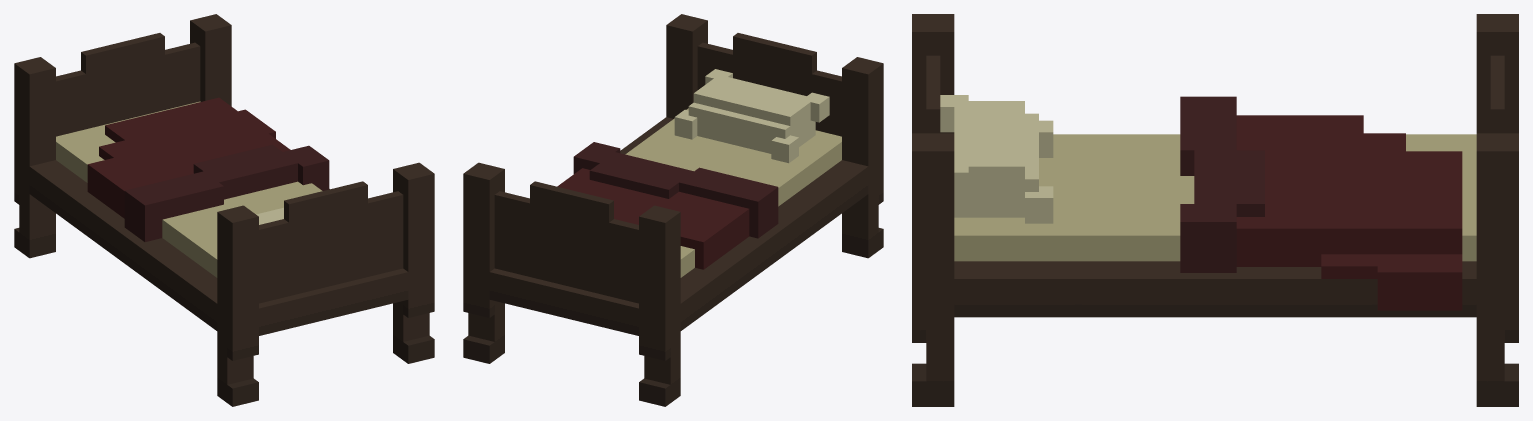
Rendered from Bed.fbx.
The picture shows the model from 3 angles, left to right: view 1: azimuth 30°, elevation 25°; view 2: azimuth 150°, elevation 25°; view 3: azimuth 270°, elevation 25°; orthographic projection. The views are drawn at different scales.
Parts seen in each view (by area): view 1: Bed.Merged; view 2: Bed.Merged; view 3: Bed.Merged.
Part boxes in pixels (x1,y1,x2,y2): Bed.Merged: [14, 14, 434, 406]; Bed.Merged: [463, 14, 883, 406]; Bed.Merged: [912, 14, 1518, 406].
Bounding box in the file's own units: 1.61 × 1.34 × 2.88.
